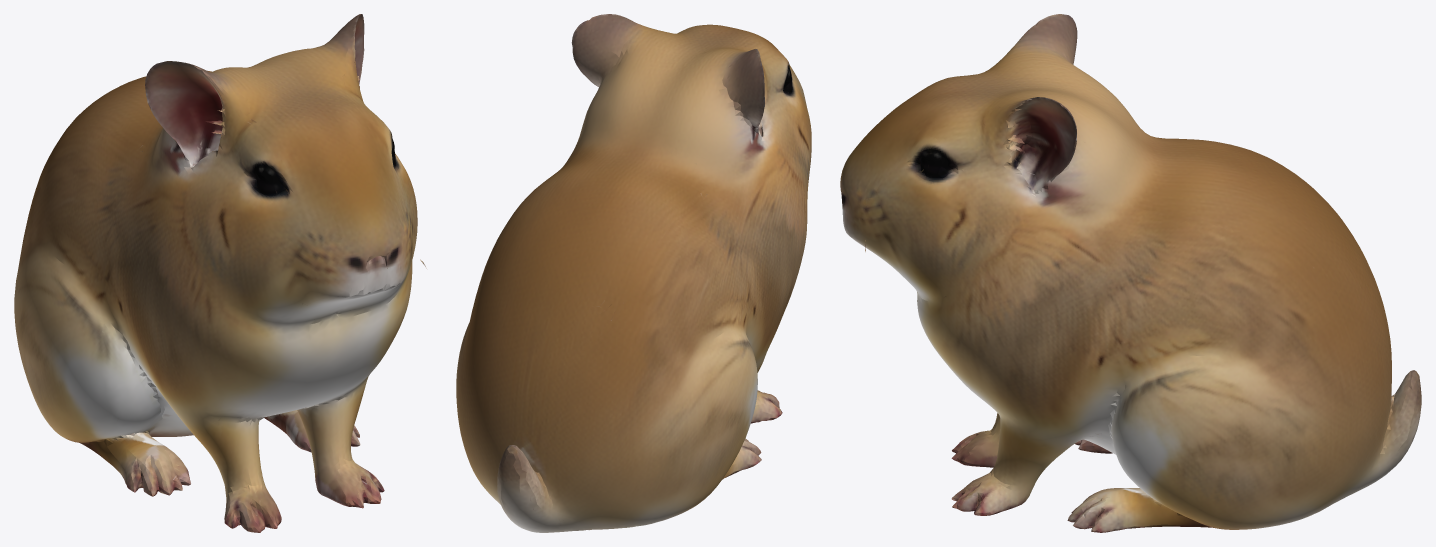
The model's file is chinchilla.glb.
The picture shows the model from 3 angles, left to right: view 1: azimuth 30°, elevation 25°; view 2: azimuth 150°, elevation 25°; view 3: azimuth 270°, elevation 25°; orthographic projection. The views are drawn at different scales.
Visible parts, largest first — view 1: model; view 2: model; view 3: model.
Part boxes in pixels (x1,y1,x2,y2): model: (14,14,426,532); model: (456,14,811,532); model: (840,14,1421,532).
Bounding box in the file's own units: 1.06 × 1.53 × 1.9.
Materials: 1 (1 with a texture image).
